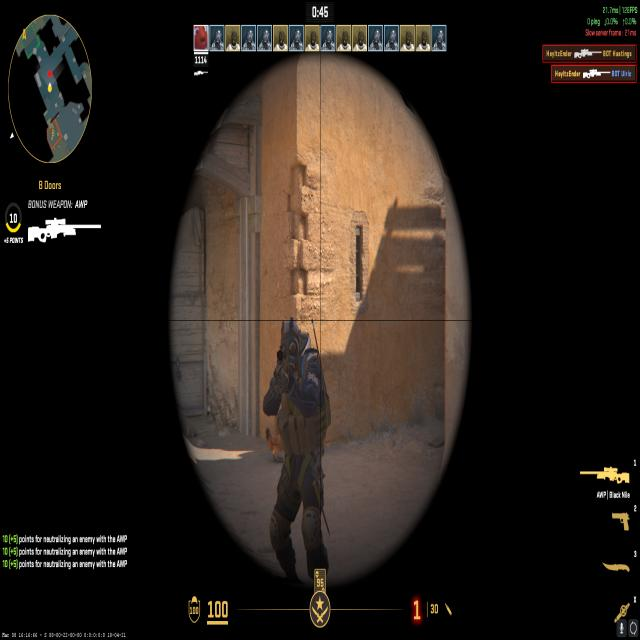ct: (252, 303, 338, 586)
